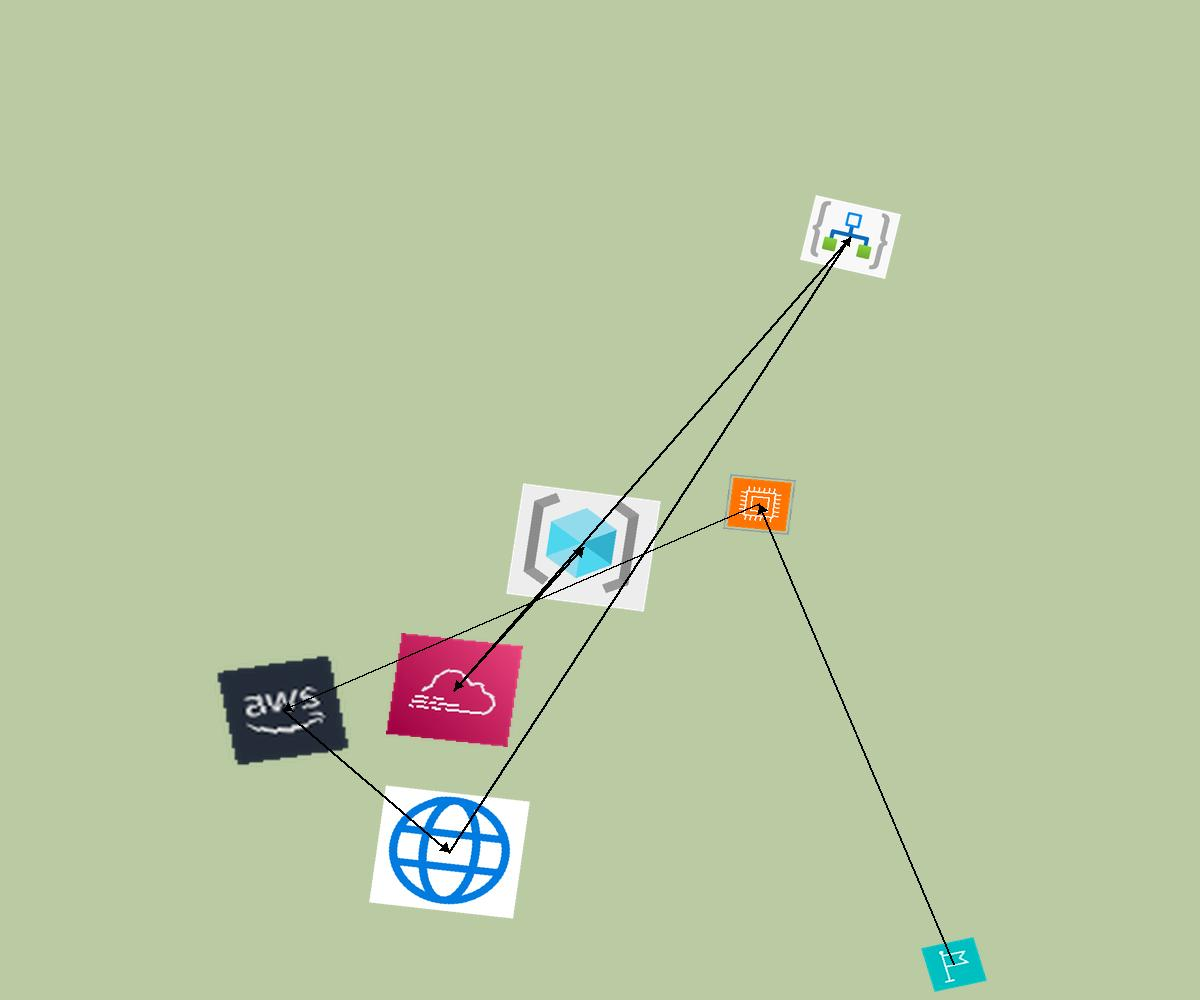AWS-Category_Compute: (723, 474, 796, 535)
AWS-Cloud-logo: (215, 654, 351, 767)
AWS-CloudTrail: (386, 633, 523, 747)
AWS-Region: (921, 937, 987, 992)
Azure_http: (369, 785, 530, 919)
Azure_integration-204-Logic-Apps: (800, 195, 901, 279)
Azure_resource_group: (506, 483, 661, 612)
